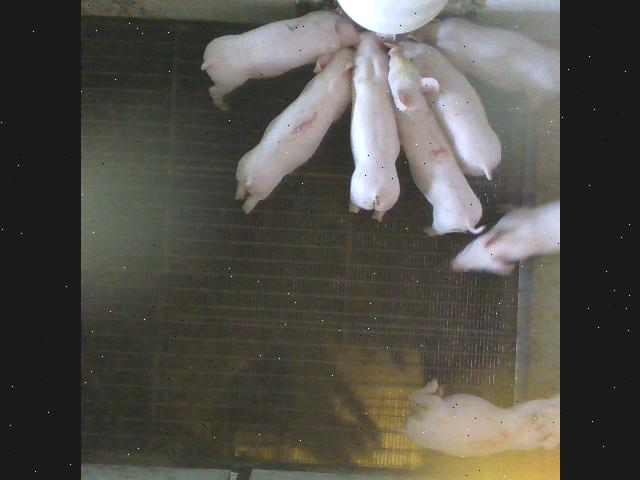pig-1: (235, 49, 353, 214)
pig-3: (400, 380, 558, 456)
pig-4: (388, 46, 483, 235)
